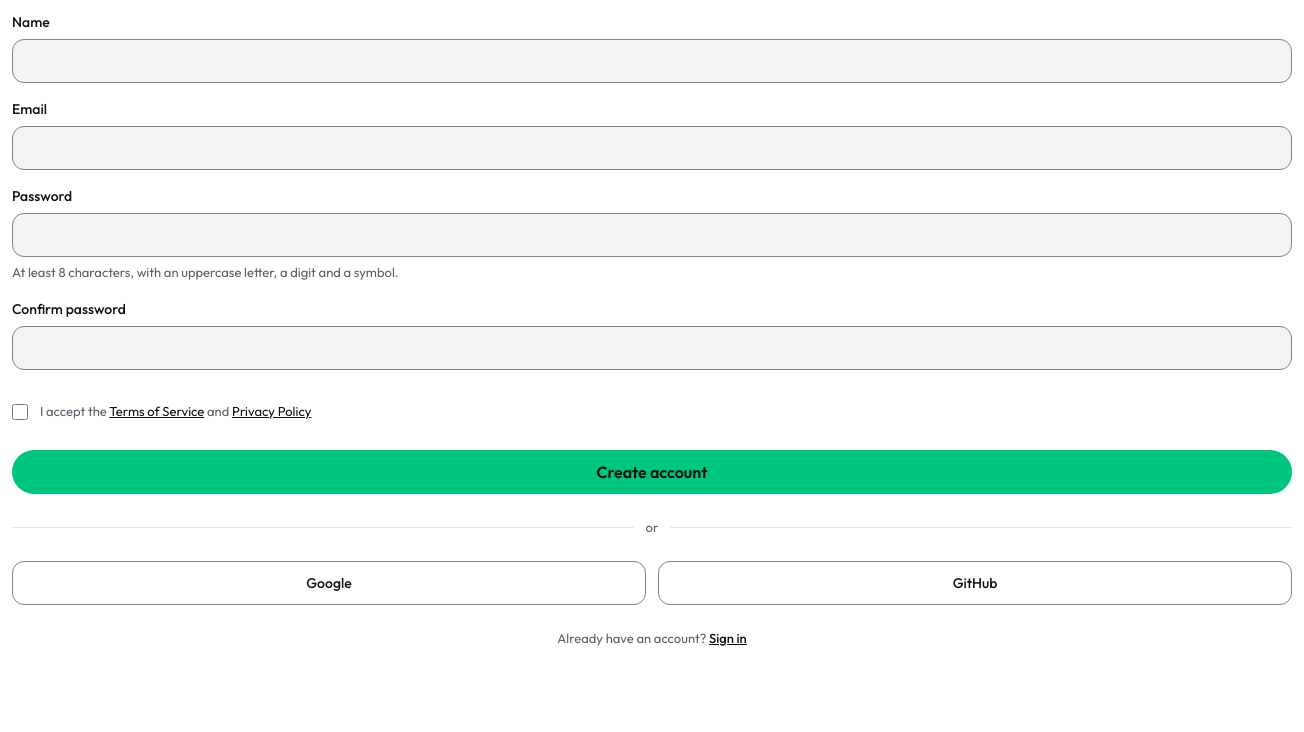
Scenario: RegisterForm › shows schema error inline when the passwords differ
Type "Alice Trader" into the field labelled "Name" at (652, 61), box x1=12 y1=39 x2=1292 y2=83
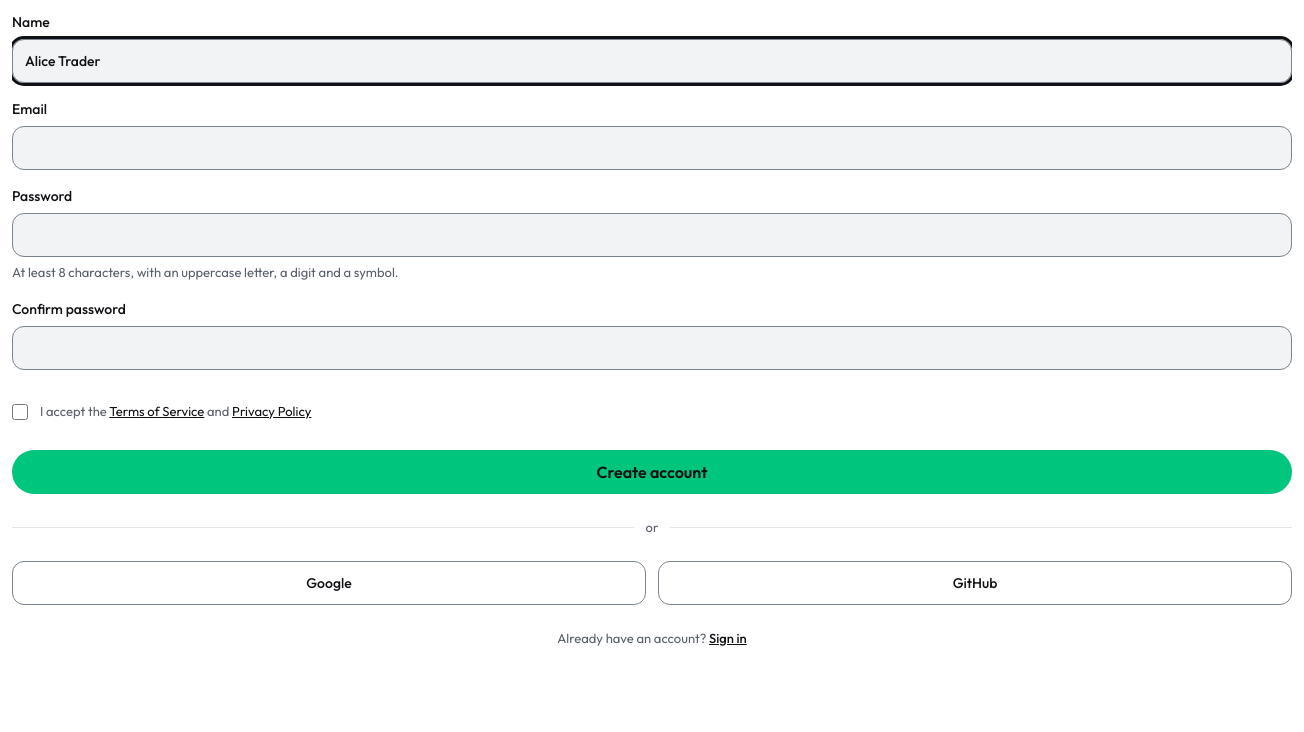
Type "alice@example.com" into the field labelled "Email" at (652, 148), box x1=12 y1=126 x2=1292 y2=170
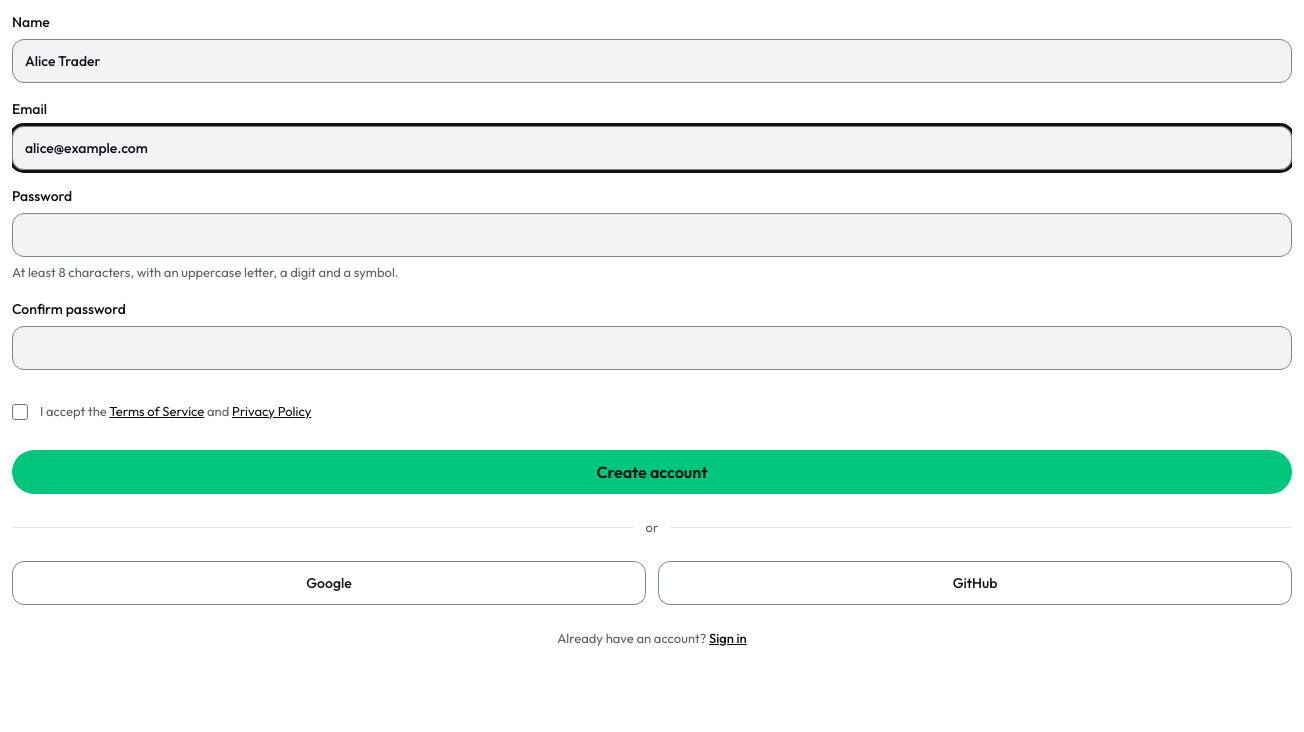
Type "Password123!" into the password field labelled "Password" at (652, 235), box x1=12 y1=213 x2=1292 y2=257
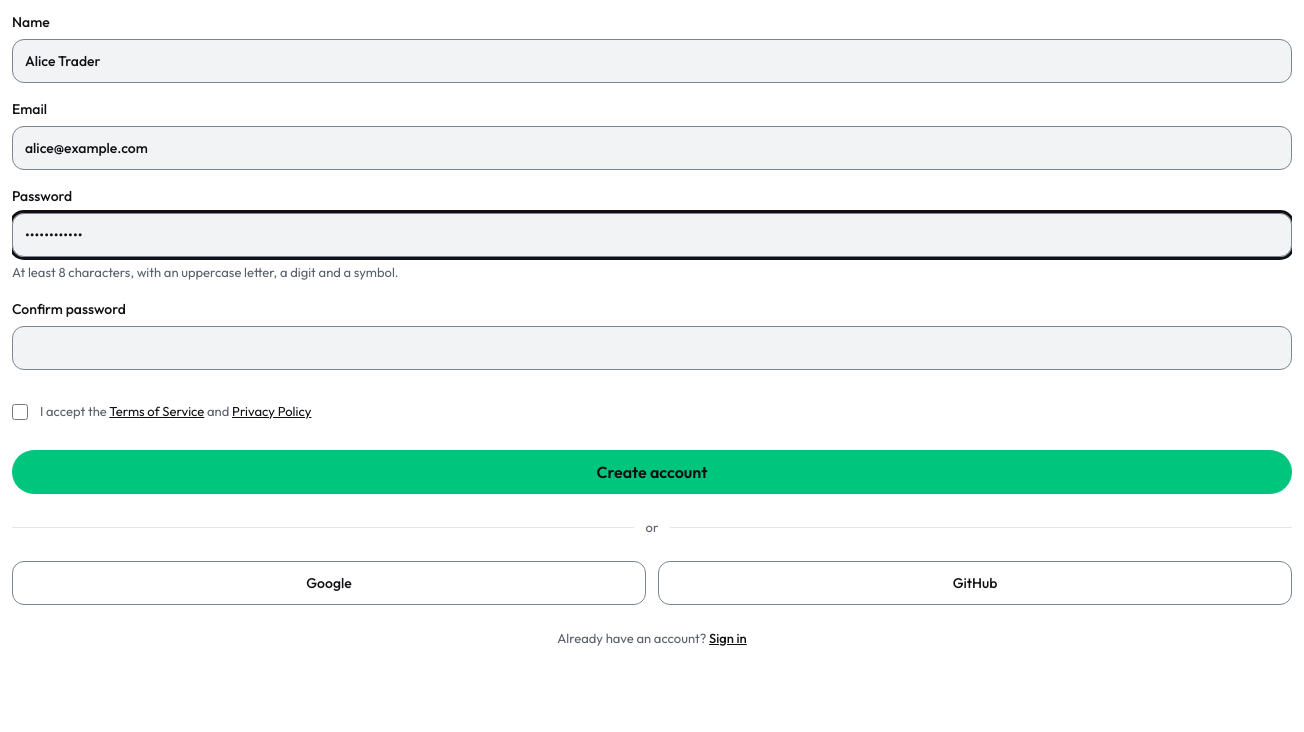
Type "DifferentPassword123!" into the password field labelled "Confirm password" at (652, 348), box x1=12 y1=326 x2=1292 y2=370
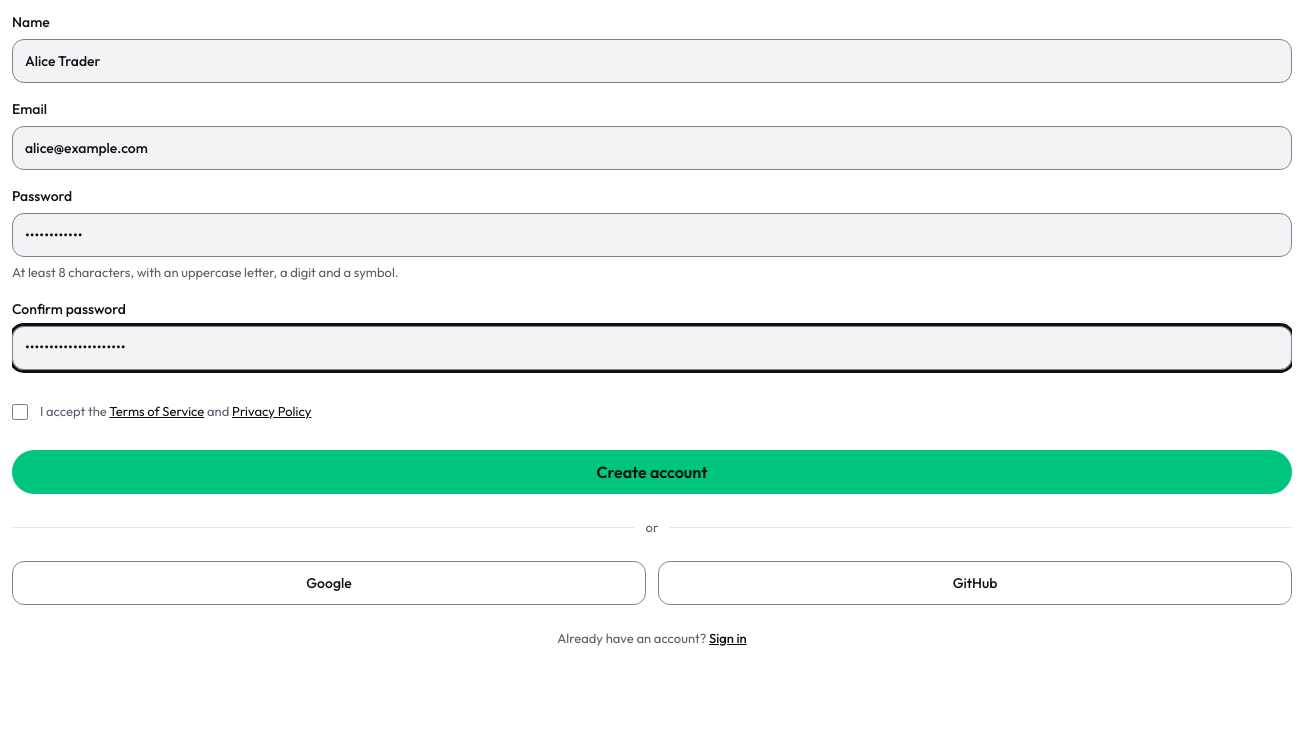
Click the checkbox at (20, 412), box x1=12 y1=404 x2=28 y2=420
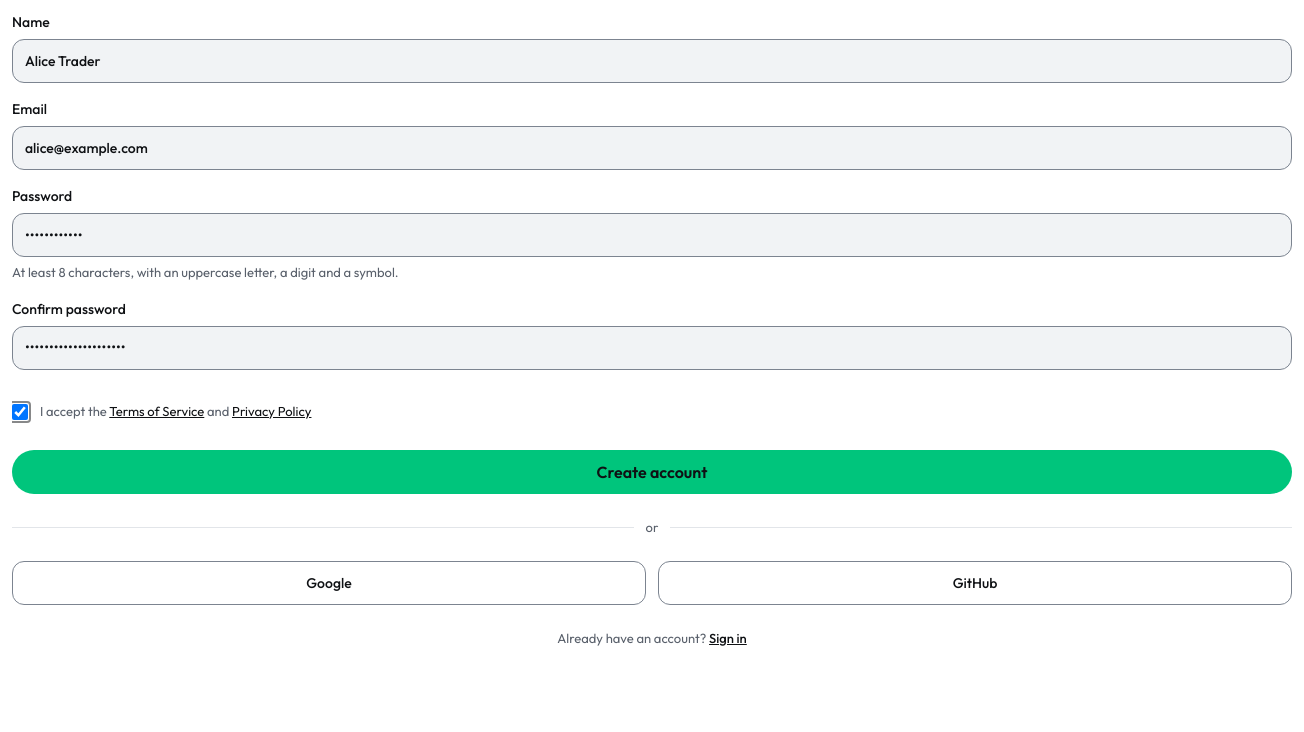
Click the button "Create account" at (652, 472), box x1=12 y1=450 x2=1292 y2=494
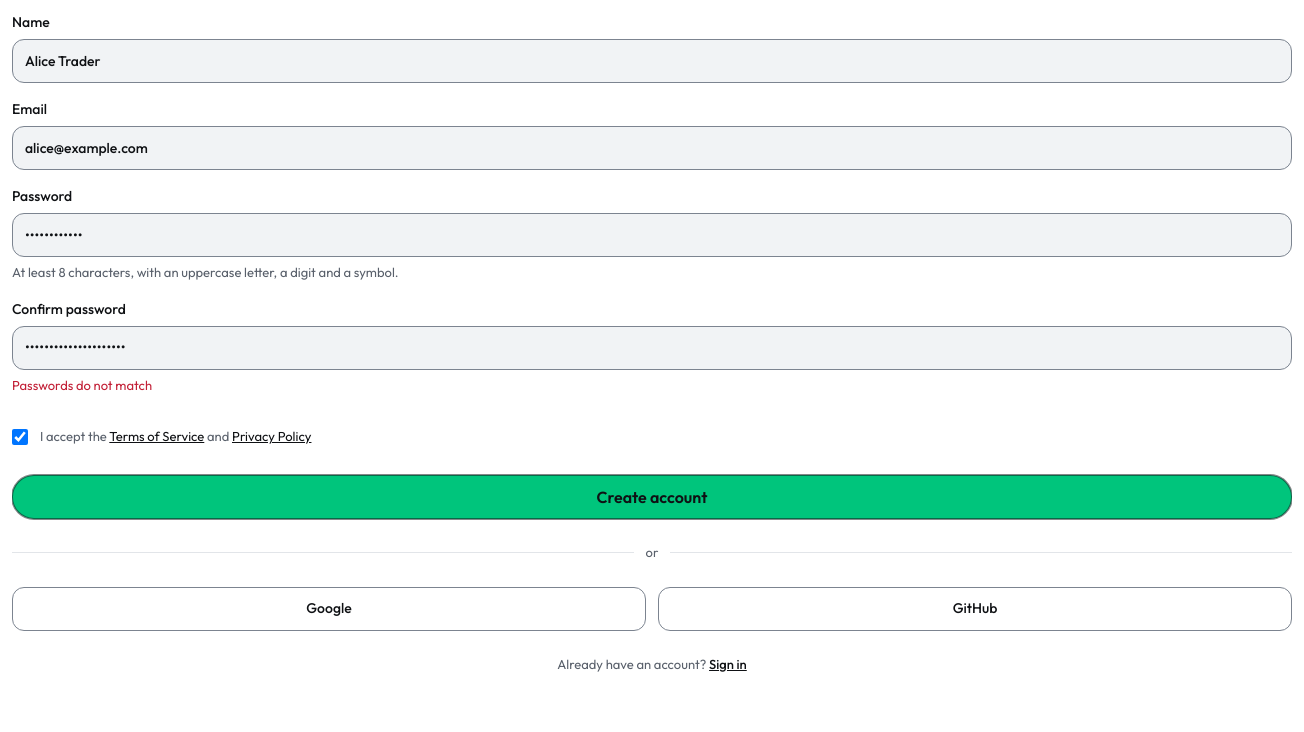
Now the text "Passwords do not match" is shown, box x1=12 y1=376 x2=152 y2=392
